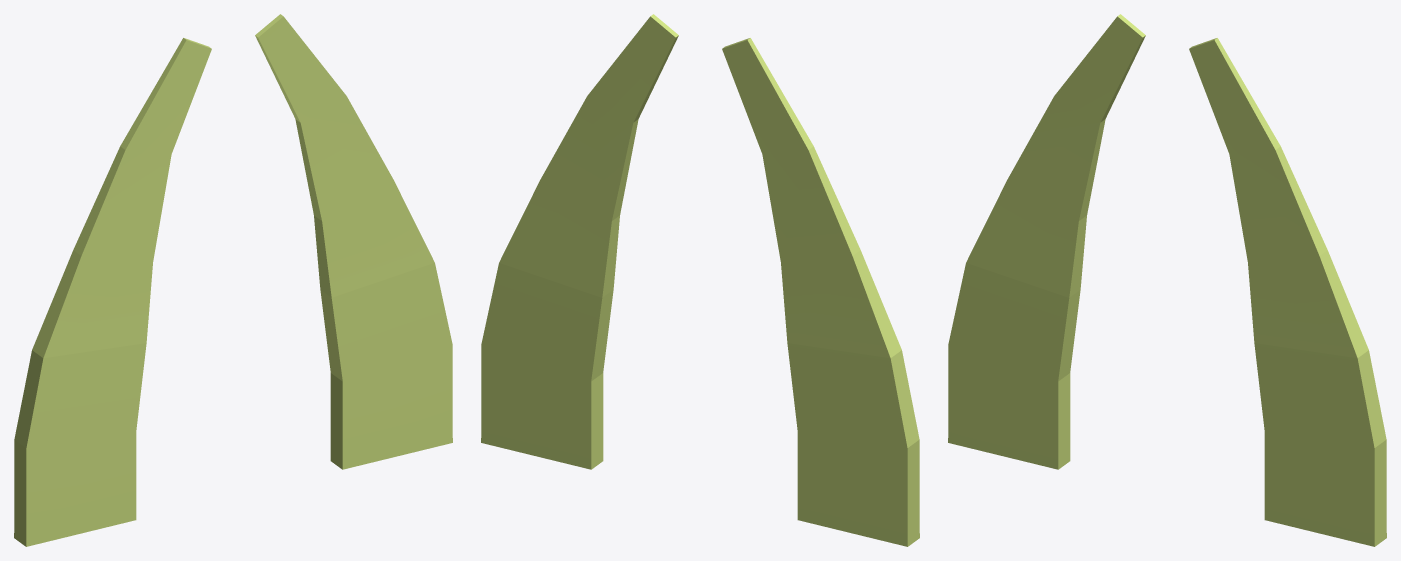
File: grass1.glb
3 views of the same model, side by side, from view 1: azimuth 30°, elevation 25°; view 2: azimuth 150°, elevation 25°; view 3: azimuth 330°, elevation 25° (orthographic).
Visible parts, largest first — view 1: Grass1; view 2: Grass1; view 3: Grass1.
Part boxes in pixels (x1,y1,x2,y2): Grass1: [14, 14, 452, 546]; Grass1: [481, 14, 919, 546]; Grass1: [948, 14, 1386, 546].
Size of the model in its own units: 0.2041 by 0.2119 by 0.00999.
